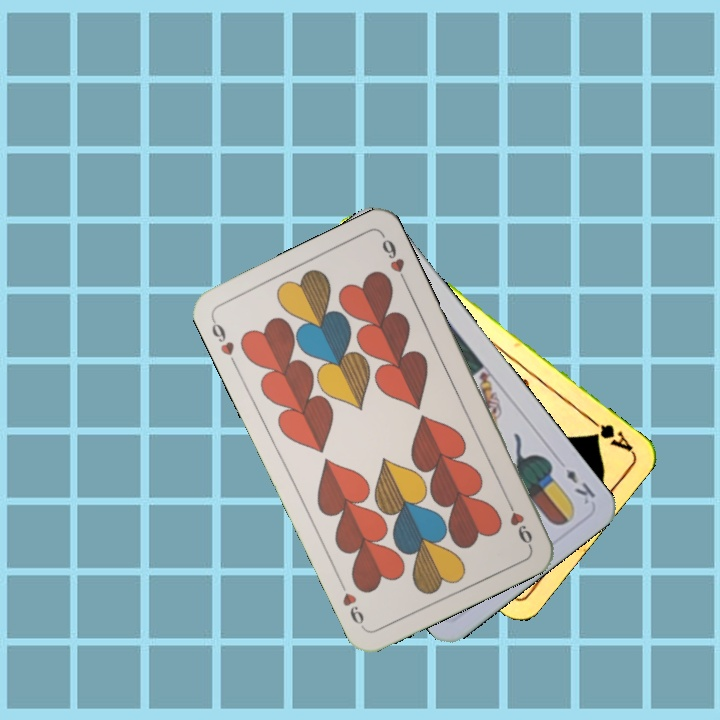EK: (561, 464, 598, 507)
GA: (584, 412, 635, 455)
H9: (501, 494, 535, 549), (207, 314, 239, 369)
